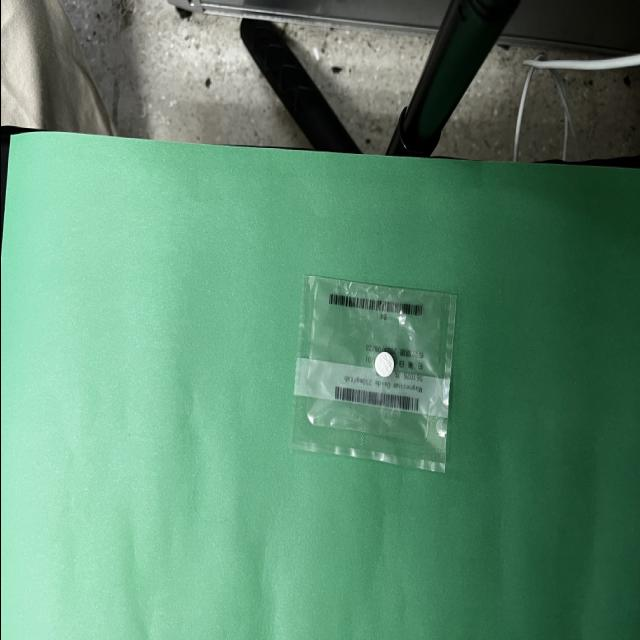Other Objects: (291, 276, 455, 471)
